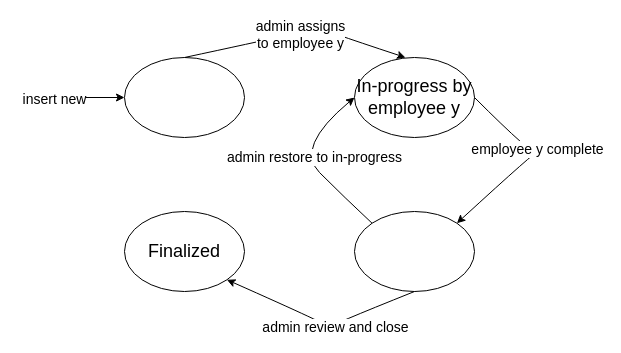
This 621x353 diagram has some shape labels left out. The box of each missing label's shape, as (x1, y1, x2, y2) in pixels:
Completed: (354, 210, 474, 292)
Pending: (124, 56, 244, 138)
